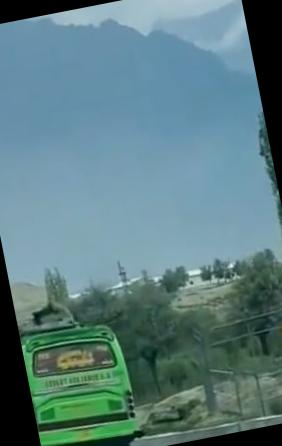right_turn: (22, 296, 282, 446)
